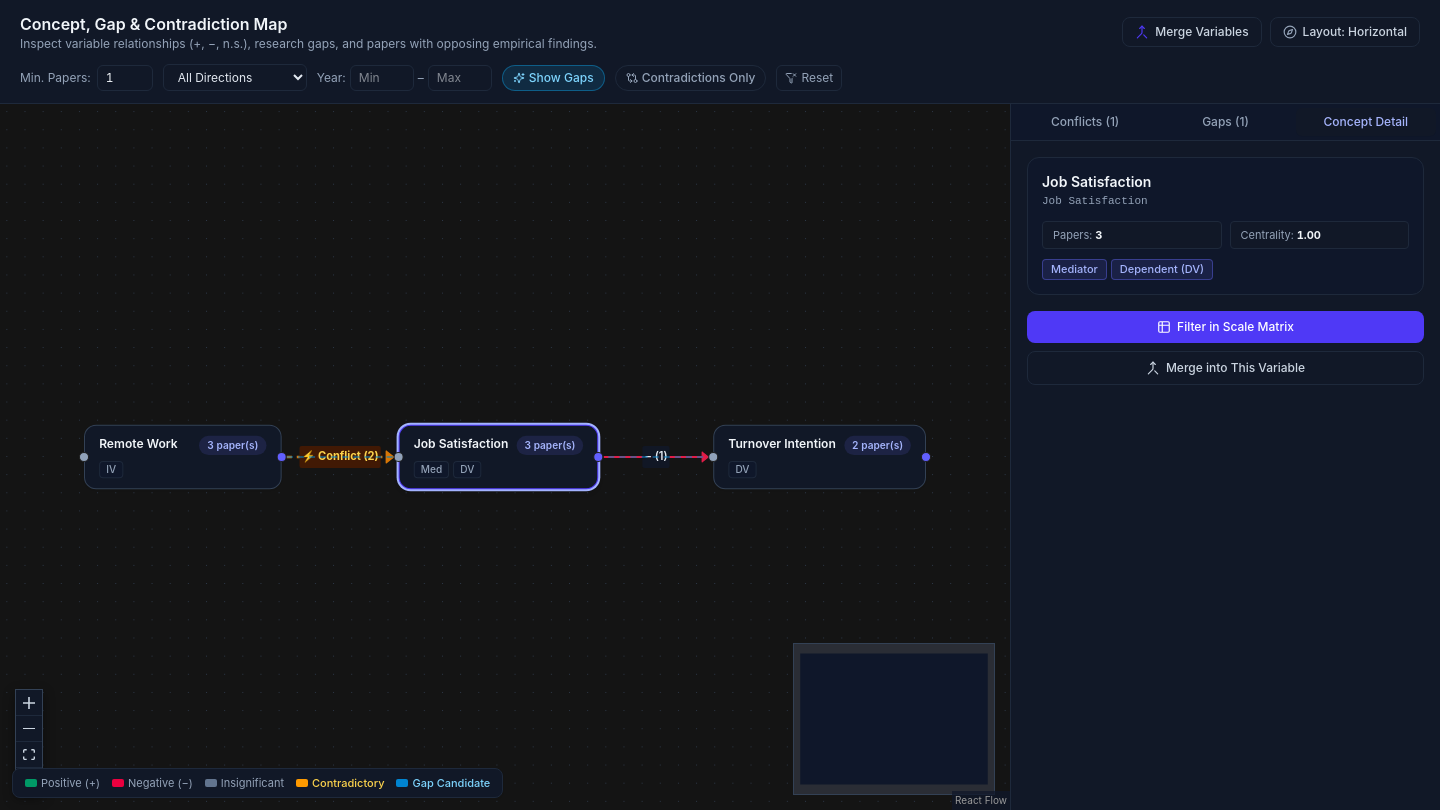
Test case: GraphMapTab › links selected node to Tab 2 via focusVariableInMatrix and supports variable merge
Earlier steps of the test are not shown.
Later steps or results of the test are not shown.
Step 1. Click the button "Merge Variables" → {"x": 1192, "y": 32}, box [1122,17,1262,47]
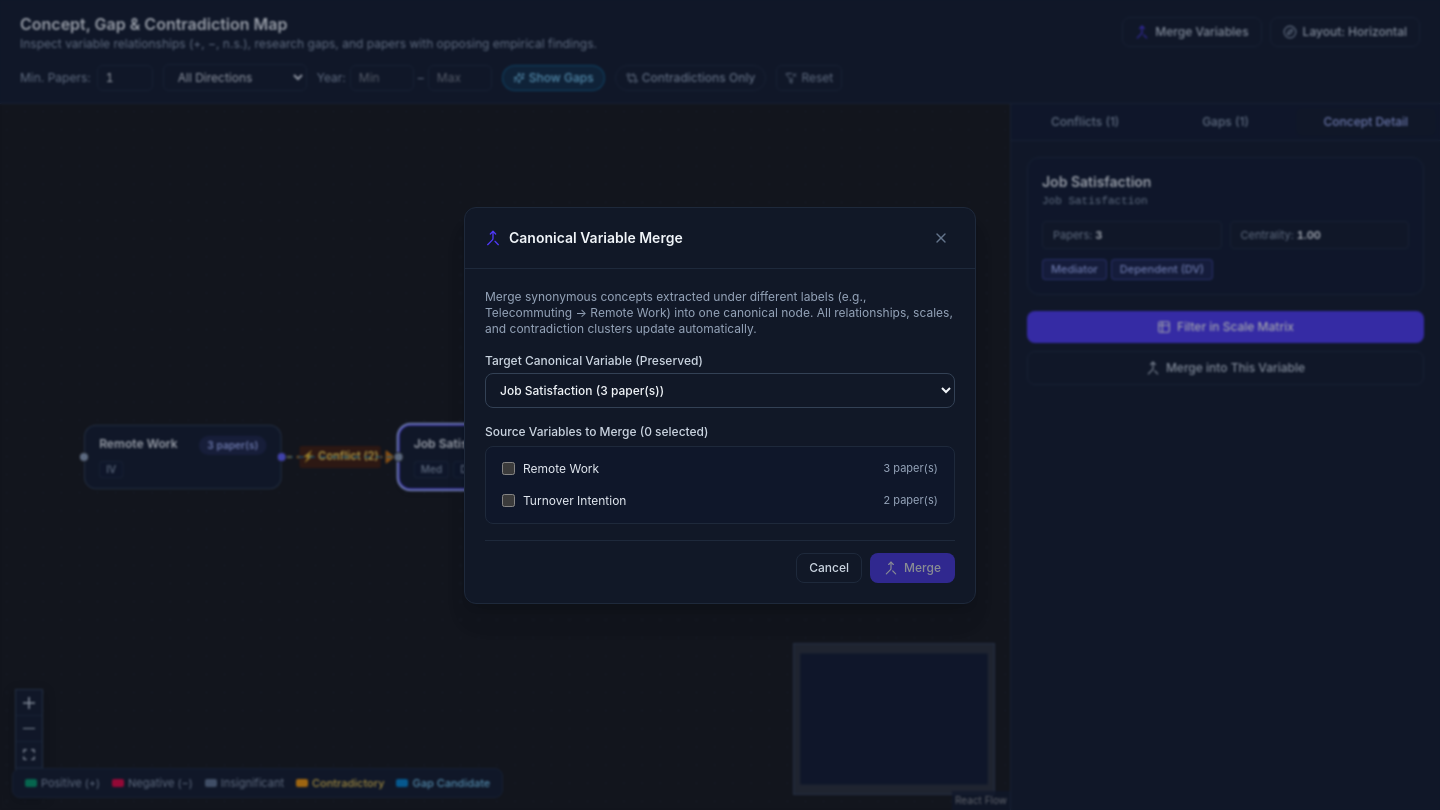
Check: the heading "Canonical Variable Merge" is shown, box [509,228,683,248]
